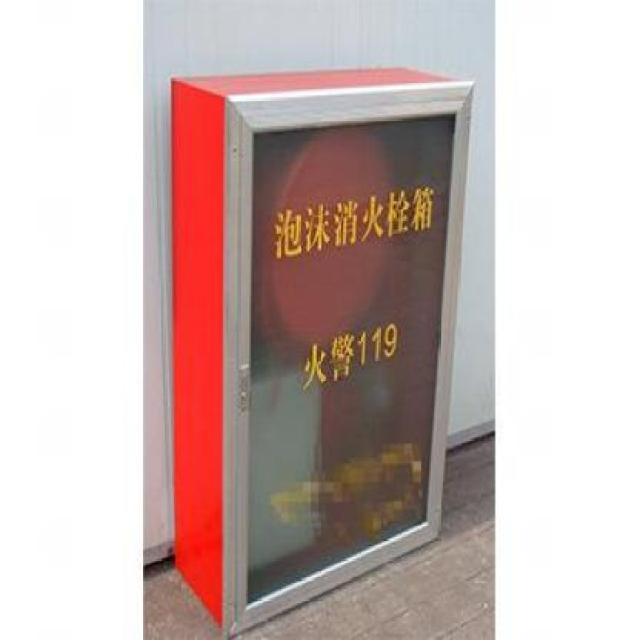firehydrant: (169, 62, 482, 639)
